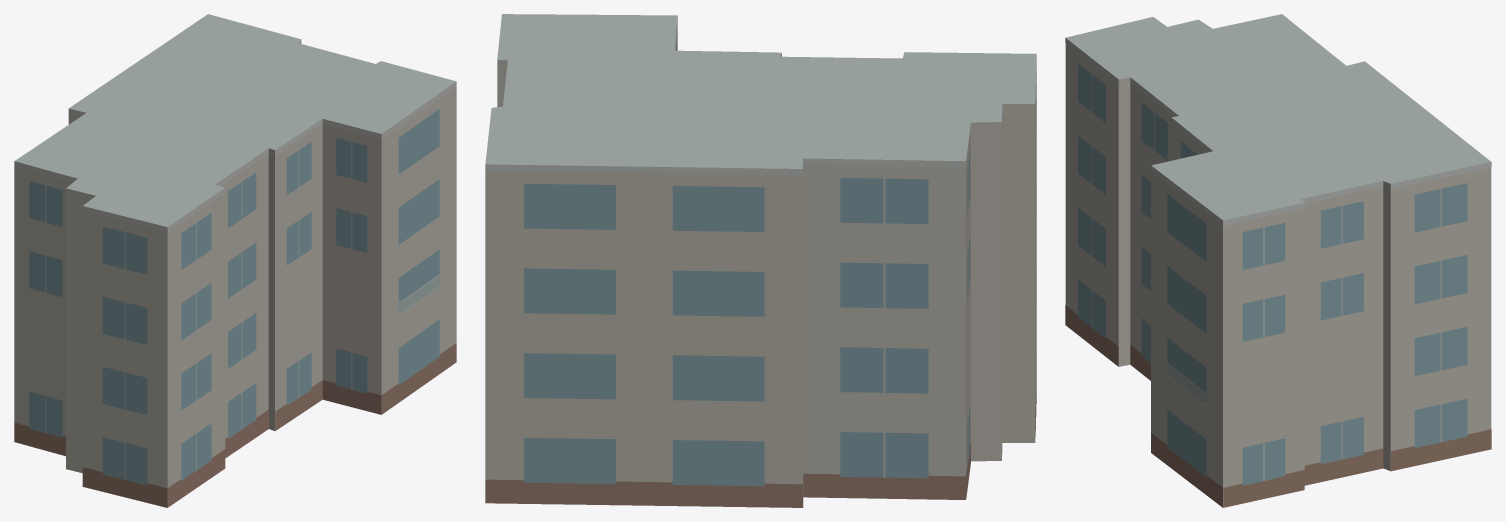
File: survey-upis-32463260.glb
3 renders of one model, left to right at view 1: azimuth 30°, elevation 25°; view 2: azimuth 150°, elevation 25°; view 3: azimuth 270°, elevation 25°, orthographic. The views are drawn at different scales.
Parts seen in each view (by area): view 1: survey-upis-32463260.tmp; view 2: survey-upis-32463260.tmp; view 3: survey-upis-32463260.tmp.
Part boxes in pixels (box(x1,y1,x2,y2)): survey-upis-32463260.tmp: box(14, 14, 456, 507); survey-upis-32463260.tmp: box(485, 14, 1036, 507); survey-upis-32463260.tmp: box(1065, 14, 1491, 507).
Size of the model in its own units: 19.65 by 12.75 by 17.14.
